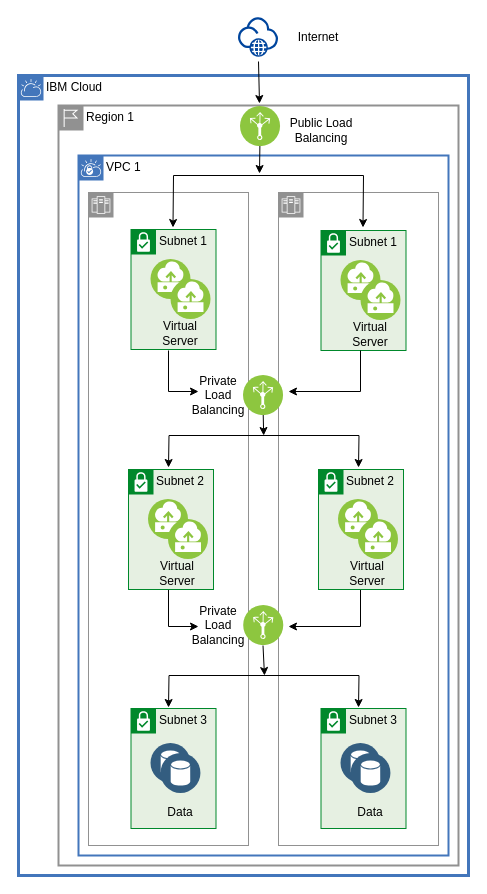
The diagram is 487 pixels wide and 894 high, and some of its shapes have lost their labels. The box of each missing label's shape, as (x1, y1, x2, y2) in pixels:
Zone 1: (88, 192, 248, 846)
Zone 2: (278, 192, 438, 846)
